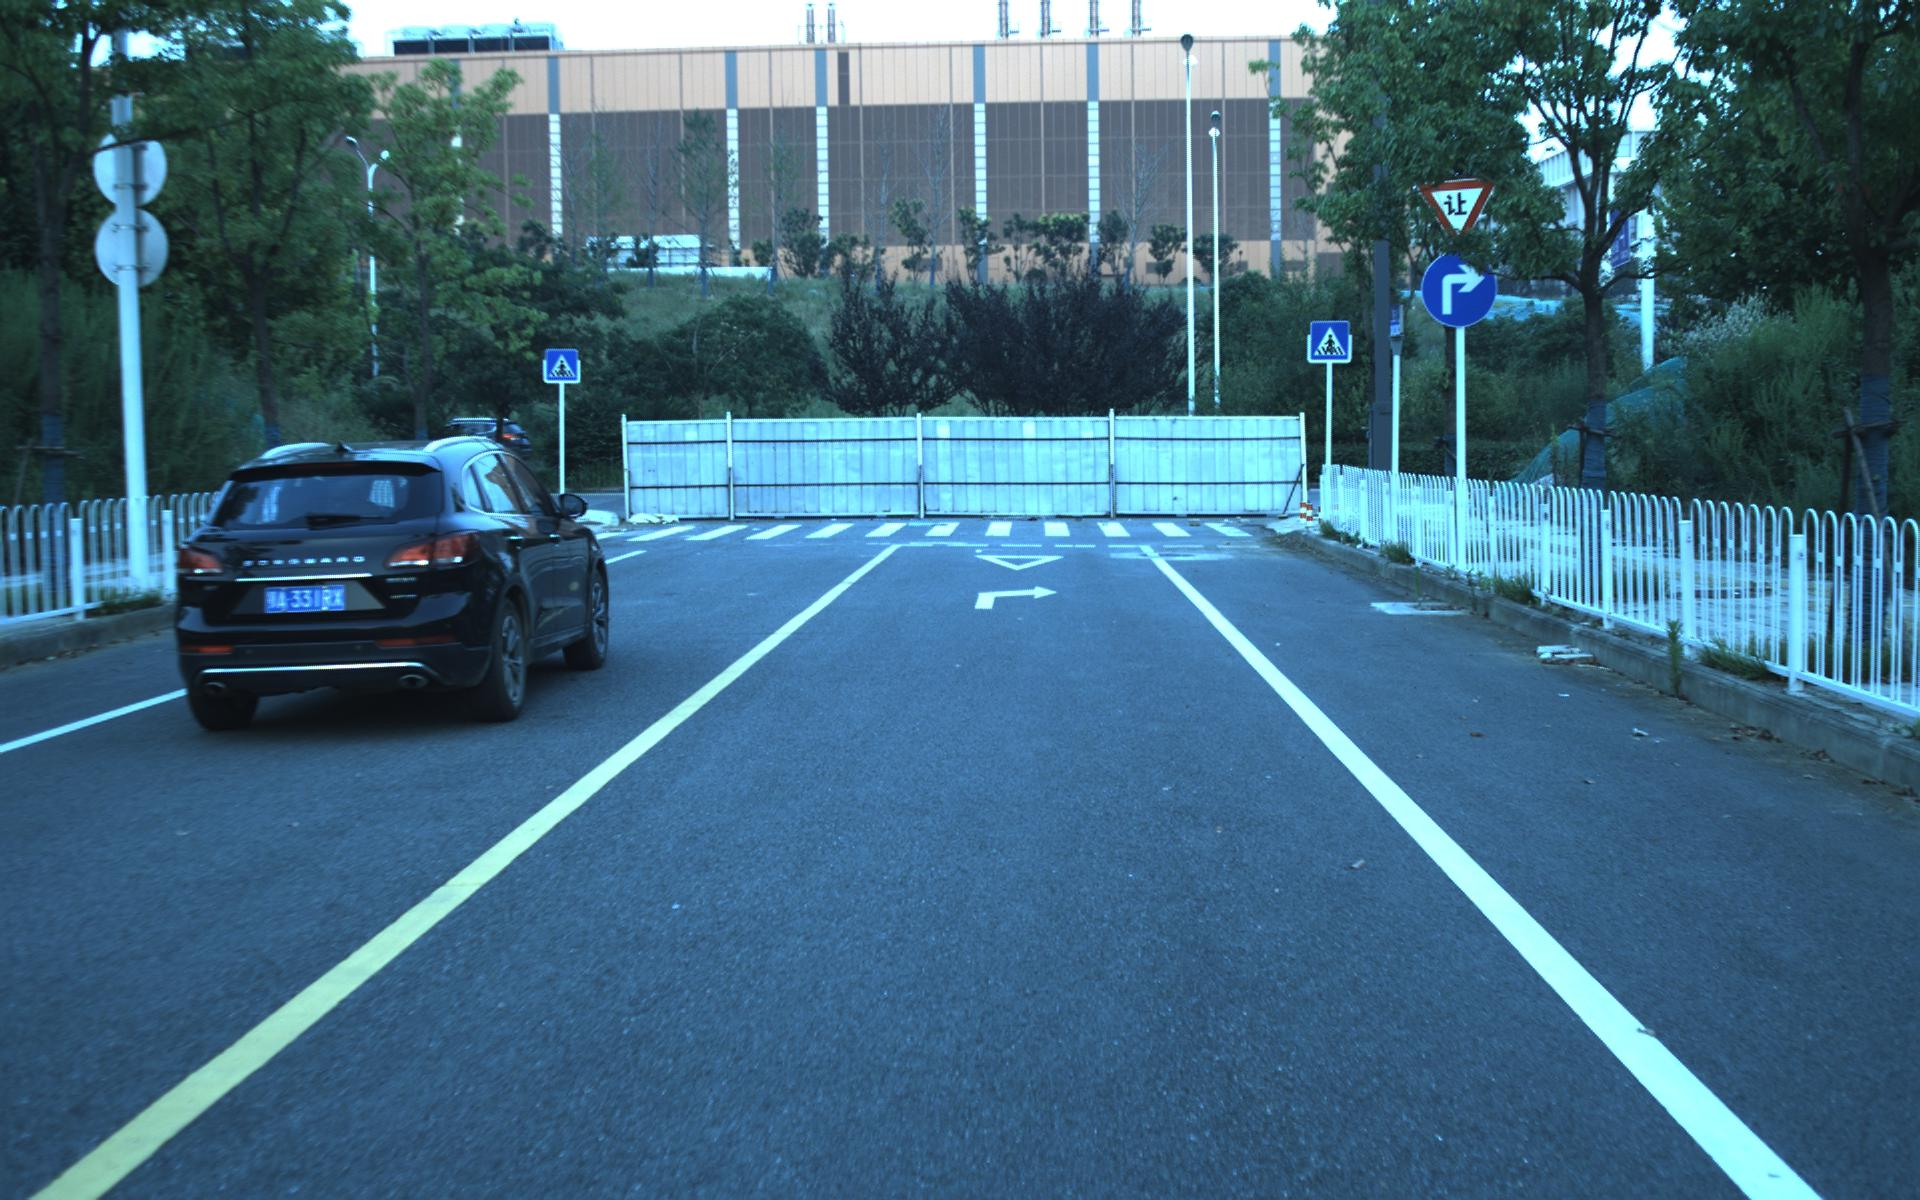Car: (158, 427, 621, 735)
